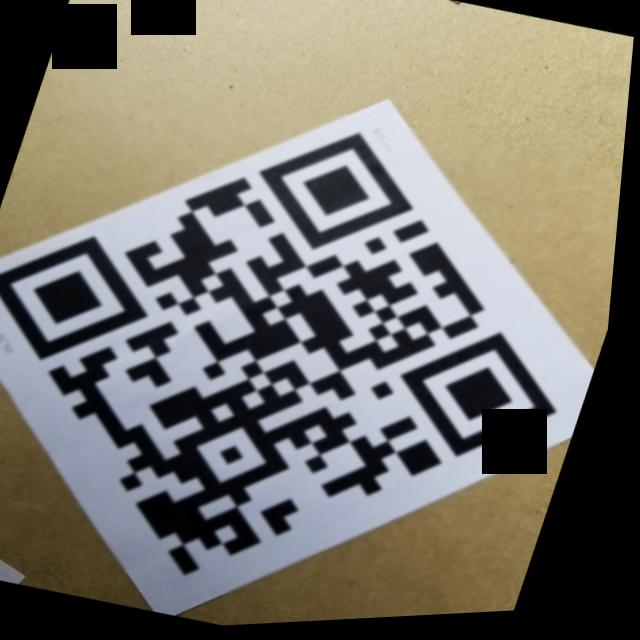QR_CODE: (0, 33, 636, 640)
